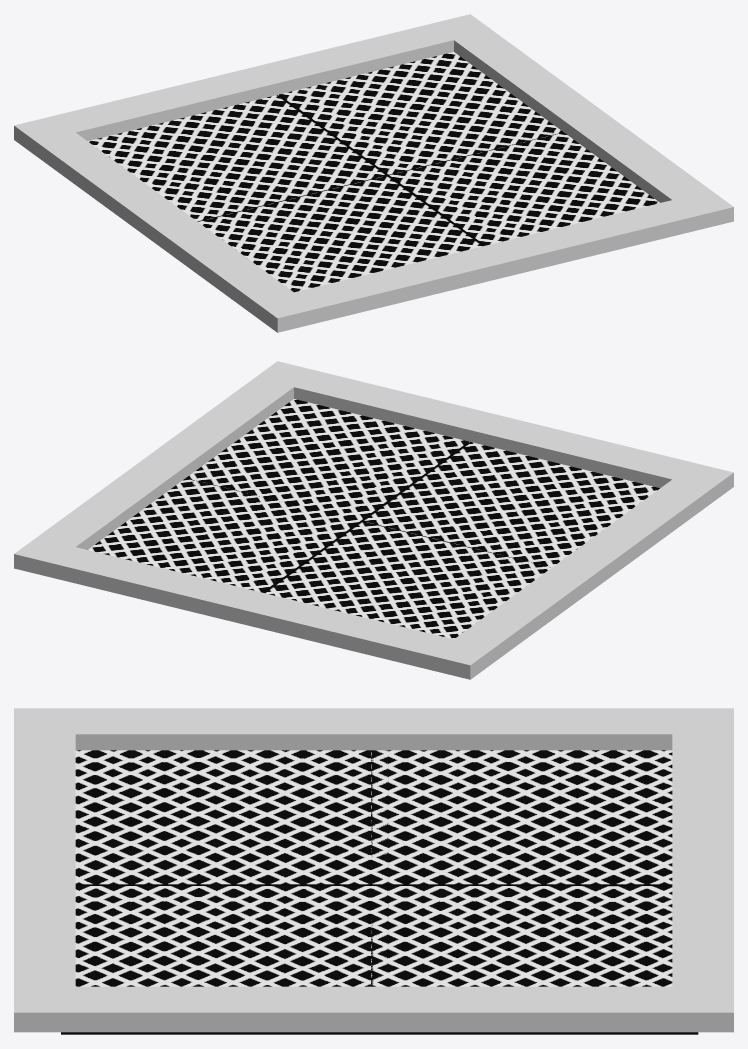
File: ModularPlatforms7.fbx
3 views of the same model, one above another, from view 1: azimuth 30°, elevation 25°; view 2: azimuth 150°, elevation 25°; view 3: azimuth 270°, elevation 25° (orthographic). The views are drawn at different scales.
Parts seen in each view (by area): view 1: Cube.006, Plane.005; view 2: Cube.006, Plane.005; view 3: Cube.006, Plane.005.
Part boxes in pixels (x1,y1,x2,y2): Cube.006: [88, 52, 659, 292]; Plane.005: [14, 14, 733, 332]; Cube.006: [88, 399, 659, 639]; Plane.005: [14, 361, 733, 679]; Cube.006: [61, 750, 698, 1034]; Plane.005: [14, 708, 733, 1032].
Bounding box in the file's own units: 1320 × 53.03 × 1320.
Materials: 2 (1 with a texture image).
